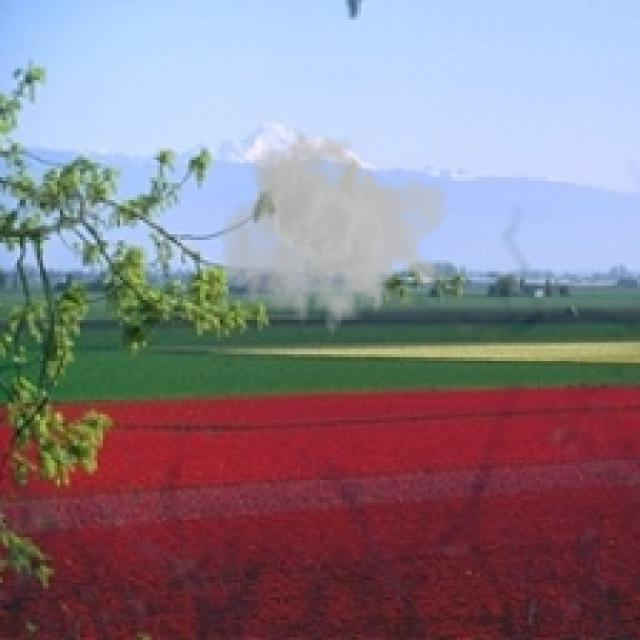smoke: (220, 128, 451, 346)
